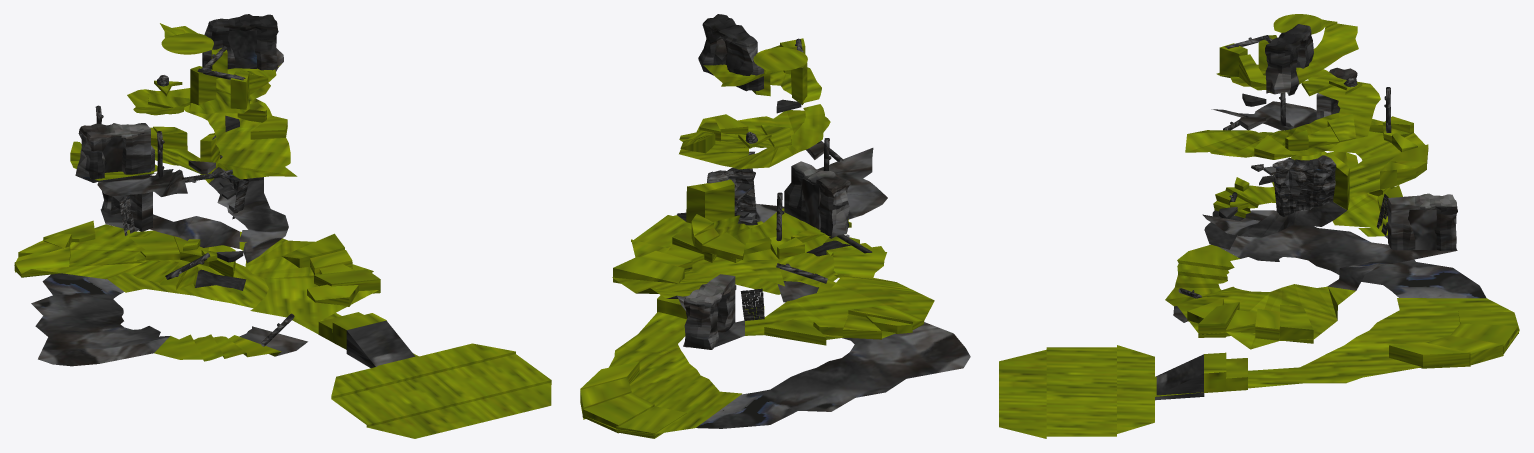
The model's file is mountain_objects_with_better_uvs.FBX.
The picture shows the model from 3 angles, left to right: view 1: azimuth 30°, elevation 25°; view 2: azimuth 150°, elevation 25°; view 3: azimuth 270°, elevation 25°; orthographic projection. The views are drawn at different scales.
Parts seen in each view (by area): view 1: Object001, Object002, Object012, Object007, Object005, gate2_wall, Object009, gate2_wall001, Object013, Object003, puzzle1_nightmare1, Object006 (+20 smaller); view 2: Object002, Object001, Object007, Object012, gate1_wall, gate2_wall, gate2_wall001, Object005, Object013, Object010, Object011, puzzle4_platform_09 (+25 smaller); view 3: Object001, Object002, Object012, Object005, gate1_wall, Object007, Object013, gate2_wall001, Object003, Object010, Object009, crystalarea1_01 (+23 smaller).
Part boxes in pixels (x1=…): Object001: x1=107, y1=260, x2=551, y2=438; Object002: x1=31, y1=273, x2=169, y2=366; Object012: x1=127, y1=88, x2=297, y2=179; Object007: x1=16, y1=224, x2=198, y2=290; Object005: x1=239, y1=231, x2=378, y2=322; gate2_wall: x1=75, y1=123, x2=154, y2=182; Object009: x1=209, y1=177, x2=288, y2=263; gate2_wall001: x1=202, y1=14, x2=283, y2=71; Object013: x1=160, y1=23, x2=281, y2=114; Object003: x1=154, y1=334, x2=281, y2=361; puzzle1_nightmare1: x1=346, y1=320, x2=415, y2=367; Object006: x1=100, y1=209, x2=239, y2=248; Object002: x1=696, y1=322, x2=970, y2=428; Object001: x1=581, y1=215, x2=859, y2=434; Object007: x1=745, y1=243, x2=934, y2=339; Object012: x1=679, y1=104, x2=830, y2=169; gate1_wall: x1=684, y1=274, x2=735, y2=349; gate2_wall: x1=784, y1=161, x2=850, y2=238; gate2_wall001: x1=698, y1=14, x2=763, y2=91; Object005: x1=612, y1=247, x2=784, y2=298; Object013: x1=703, y1=47, x2=821, y2=102; Object010: x1=713, y1=208, x2=848, y2=260; Object011: x1=818, y1=148, x2=887, y2=219; puzzle4_platform_09: x1=686, y1=179, x2=734, y2=223; Object001: x1=999, y1=298, x2=1519, y2=438; Object002: x1=1218, y1=210, x2=1486, y2=298; Object012: x1=1185, y1=69, x2=1380, y2=159; Object005: x1=1176, y1=284, x2=1355, y2=349; gate1_wall: x1=1388, y1=193, x2=1457, y2=250; Object007: x1=1213, y1=151, x2=1395, y2=236; Object013: x1=1216, y1=14, x2=1358, y2=92; gate2_wall001: x1=1265, y1=24, x2=1313, y2=95; Object003: x1=1165, y1=244, x2=1240, y2=306; Object010: x1=1326, y1=119, x2=1428, y2=210; Object009: x1=1202, y1=202, x2=1346, y2=237; crystalarea1_01: x1=1389, y1=342, x2=1470, y2=368.
Size of the model in its own units: 8503 by 6490 by 9703.
